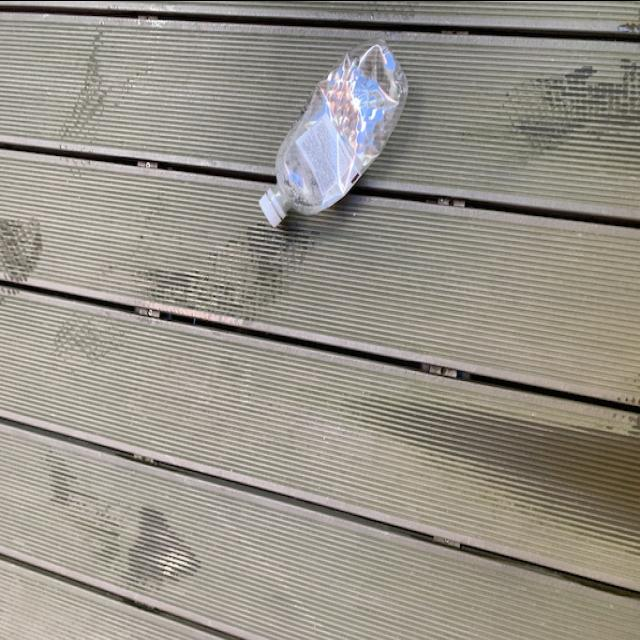litter: (255, 34, 415, 234)
